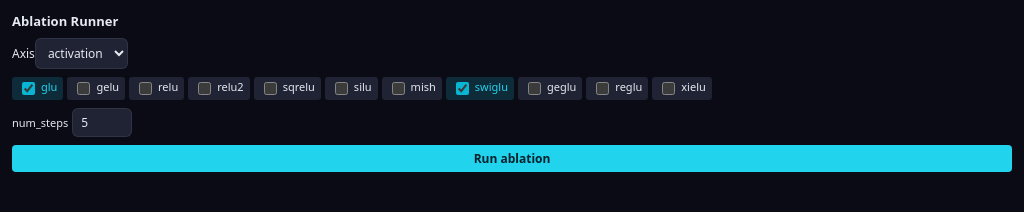
Test: AblationsTab › Run with <2 variants surfaces error
// Untick one of the default variants
Step 1. Click the label with test id "ablation-variant-swiglu" → (480, 88), box [446,77,514,100]
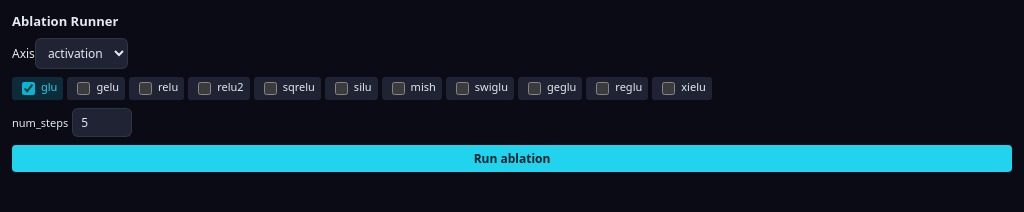
Step 2. Click the button with test id "ablation-run" → (512, 158), box [12,145,1012,172]
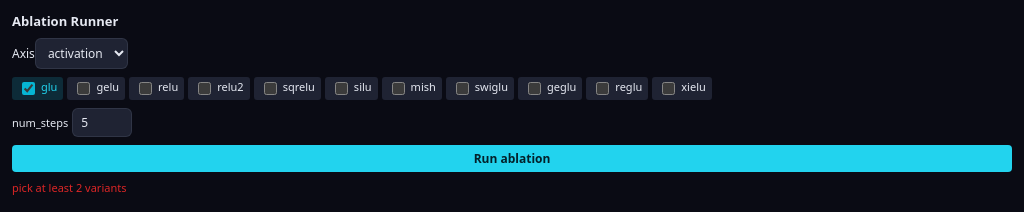
Expected: the text with test id "ablation-error" shows "at least 2", [12,180,126,195]
